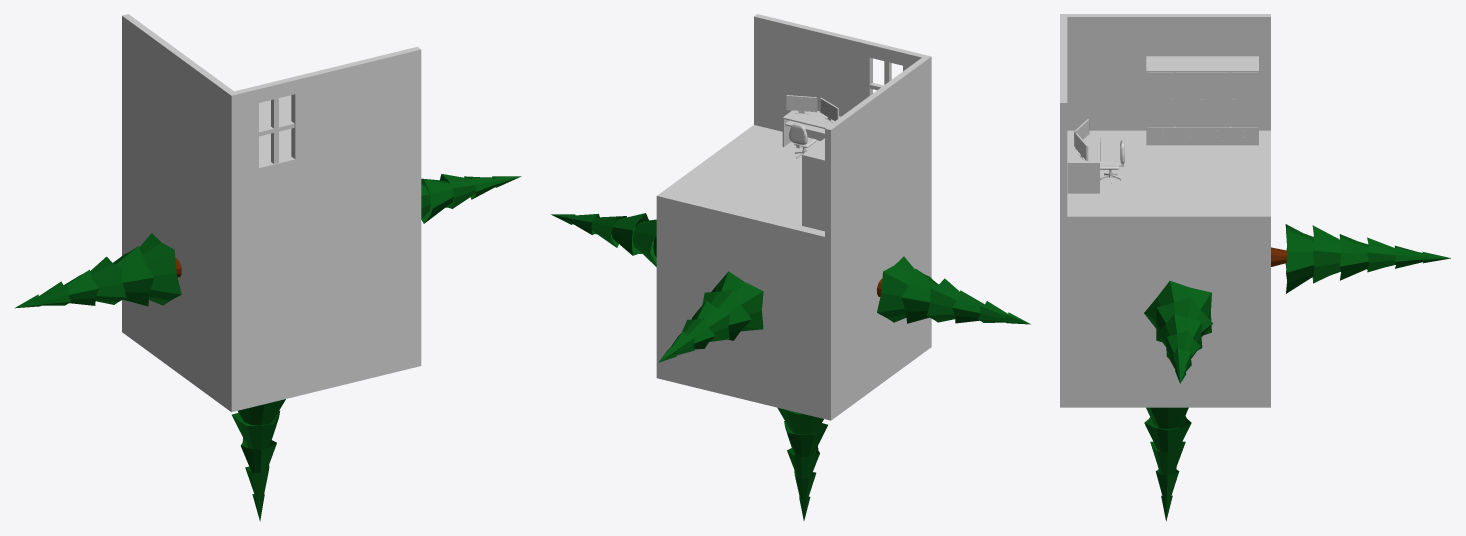
The model's file is CubeWorldForTesting.glb.
3 views of the same model, side by side, from view 1: azimuth 30°, elevation 25°; view 2: azimuth 150°, elevation 25°; view 3: azimuth 270°, elevation 25° (orthographic). The views are drawn at different scales.
Parts seen in each view (by area): view 1: WorldCube, Room Walls, Tree.004, Tree.003, Tree.001, Window, Circle; view 2: WorldCube, Room Walls, Tree.004, Tree.002, Tree.001, Tree.003, WardrobeBody, Circle, Desk; view 3: WorldCube, Room Walls, Tree.002, Tree.001, WardrobeBody, Tree.003, Circle, Desk, CenterLeftDoor, CenterRightDoor, LeftDoor, RightDoor.
Part boxes in pixels (x1,y1,x2,y2): WorldCube: [122, 95, 421, 412]; Room Walls: [122, 14, 421, 213]; Tree.004: [14, 233, 181, 308]; Tree.003: [232, 399, 285, 521]; Tree.001: [421, 174, 521, 223]; Window: [259, 98, 294, 163]; Circle: [259, 112, 291, 145]; WorldCube: [656, 125, 931, 420]; Room Walls: [754, 14, 931, 238]; Tree.004: [877, 256, 1030, 324]; Tree.002: [658, 271, 763, 362]; Tree.001: [551, 213, 656, 266]; Tree.003: [777, 407, 827, 520]; WardrobeBody: [802, 138, 824, 231]; Circle: [720, 172, 788, 203]; Desk: [782, 110, 840, 146]; WorldCube: [1060, 130, 1270, 407]; Room Walls: [1060, 14, 1270, 216]; Tree.002: [1271, 224, 1450, 293]; Tree.001: [1144, 281, 1212, 383]; WardrobeBody: [1146, 56, 1258, 145]; Tree.003: [1144, 407, 1191, 521]; Circle: [1165, 167, 1242, 196]; Desk: [1067, 134, 1100, 193]; CenterLeftDoor: [1175, 72, 1202, 126]; CenterRightDoor: [1202, 72, 1229, 126]; LeftDoor: [1147, 72, 1173, 126]; RightDoor: [1231, 72, 1257, 126].
Size of the model in its own units: 5.44 by 4.91 by 3.72.
